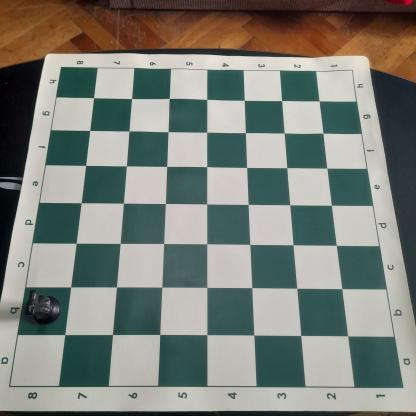black-knight: (23, 289, 62, 325)
